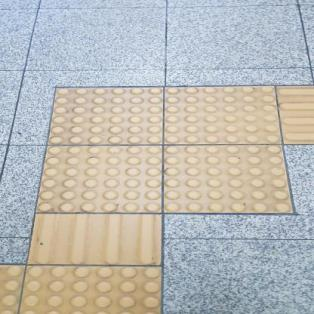Podoctatil: (0, 80, 313, 313)
